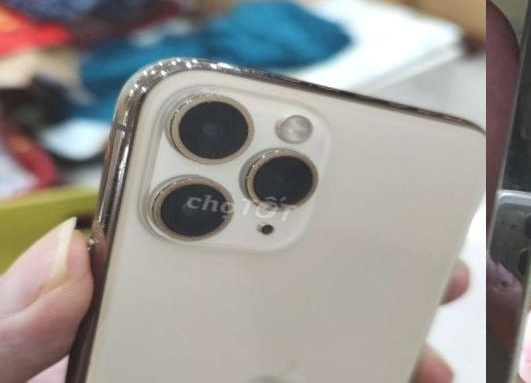scratch: (109, 44, 408, 250), (525, 0, 531, 67)
